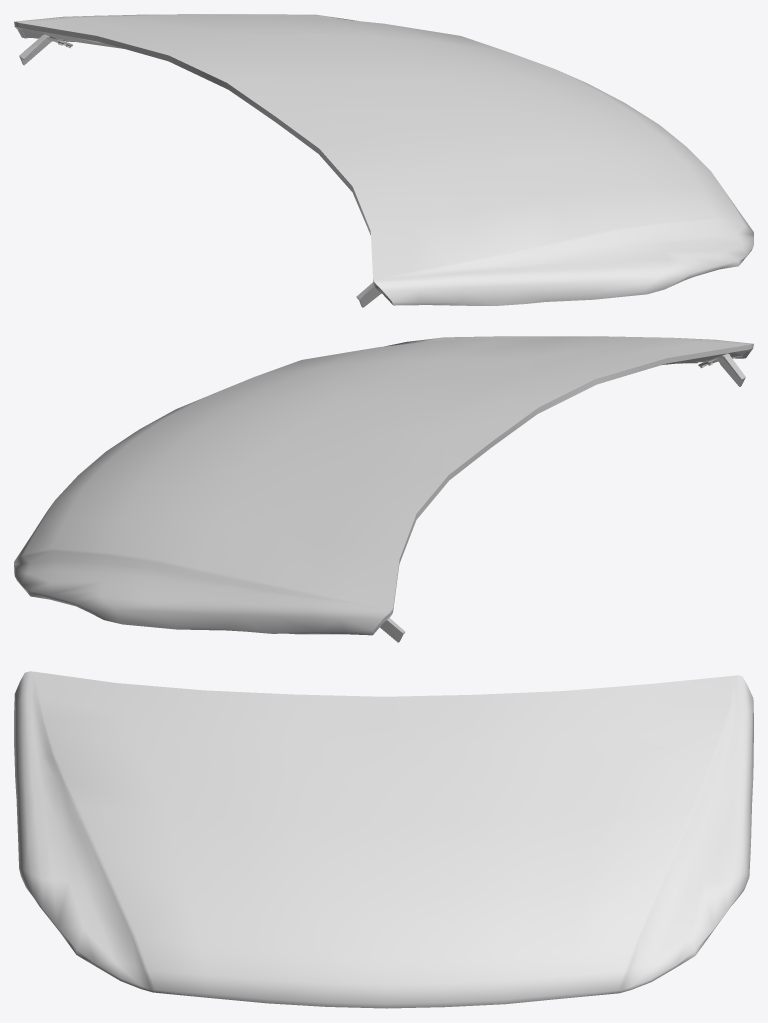
File: E5_前舱盖.FBX
3 renders of one model, top to bottom at view 1: azimuth 30°, elevation 25°; view 2: azimuth 150°, elevation 25°; view 3: azimuth 270°, elevation 25°, orthographic.
Visible parts, largest first — view 1: YQG1; view 2: YQG1; view 3: YQG1.
Part boxes in pixels (x1,y1,x2,y2): YQG1: (14, 14, 753, 307); YQG1: (14, 336, 753, 642); YQG1: (14, 671, 753, 1008).
Bounding box in the file's own units: 117 × 34.01 × 158.
